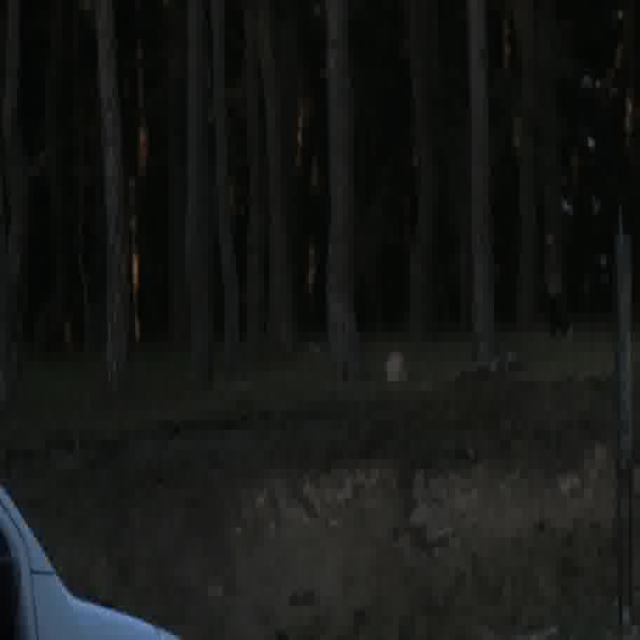Car: (0, 472, 183, 640)
